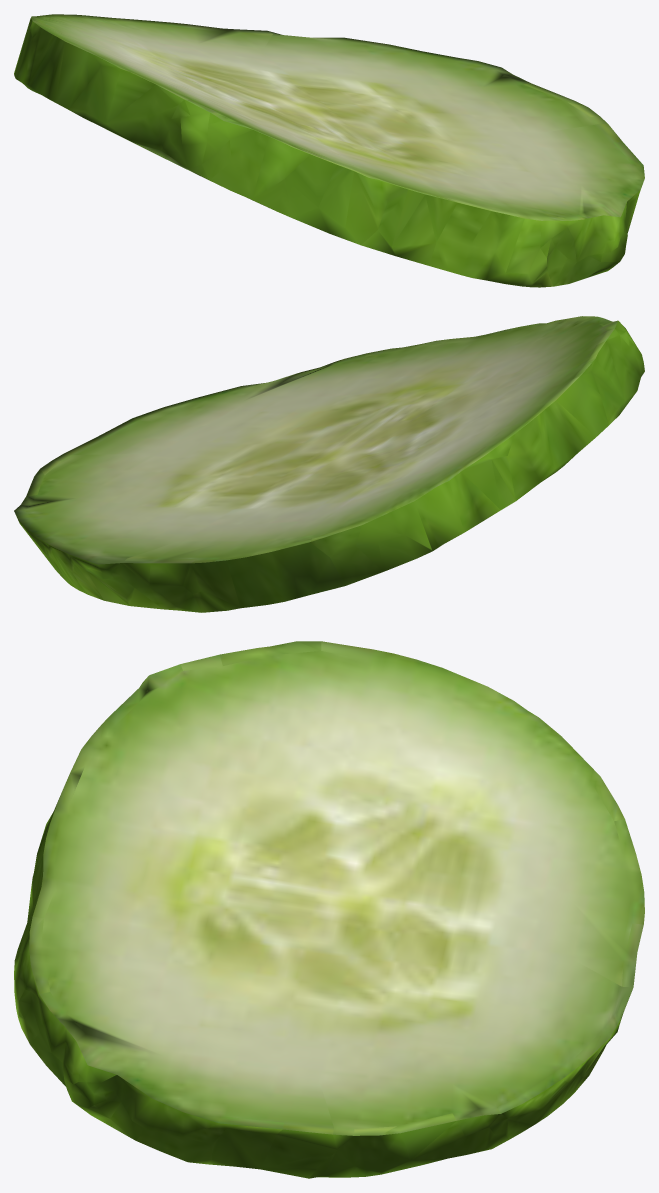
The model's file is Pickle .fbx.
3 renders of one model, top to bottom at view 1: azimuth 30°, elevation 25°; view 2: azimuth 150°, elevation 25°; view 3: azimuth 270°, elevation 25°, orthographic. The views are drawn at different scales.
Visible parts, largest first — view 1: Pickle; view 2: Pickle; view 3: Pickle.
Boxes of the visible parts, x1,y1,x2,y2 form: Pickle: (14, 14, 644, 287); Pickle: (14, 316, 644, 612); Pickle: (14, 641, 644, 1178).
Bounding box in the file's own units: 55.39 × 24.8 × 51.15.
Materials: 1 (1 with a texture image).
